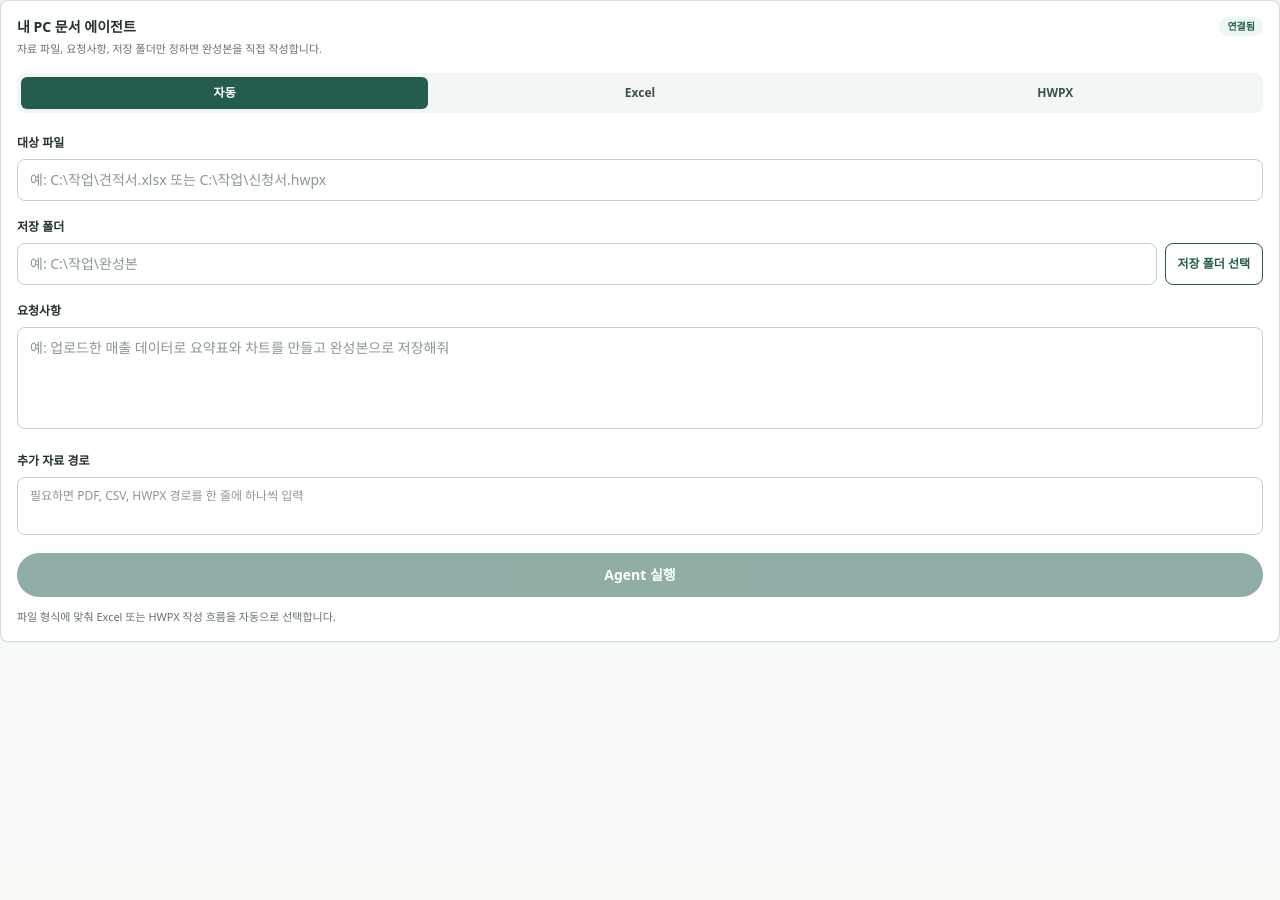
Test: LocalAgentPanel › fills the output folder from the desktop picker
expect the text with test id "local-agent-status" reads "연결됨": met, box [1227, 19, 1255, 33]
Click the button "저장 폴더 선택": (1214,264) [1164, 243, 1263, 285]
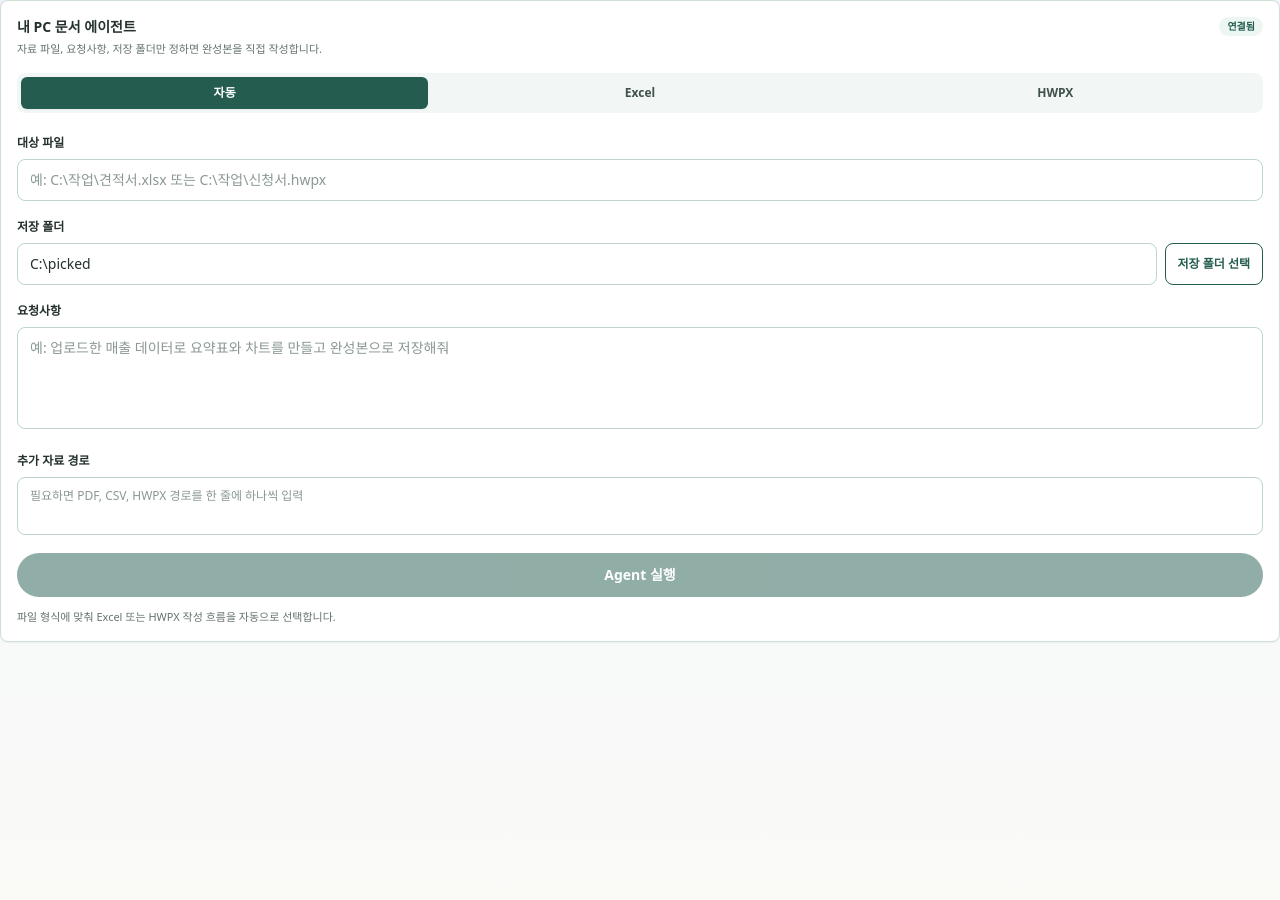
expect the field labelled "저장 폴더" holds "C:\\picked": met, box [17, 243, 1156, 285]
